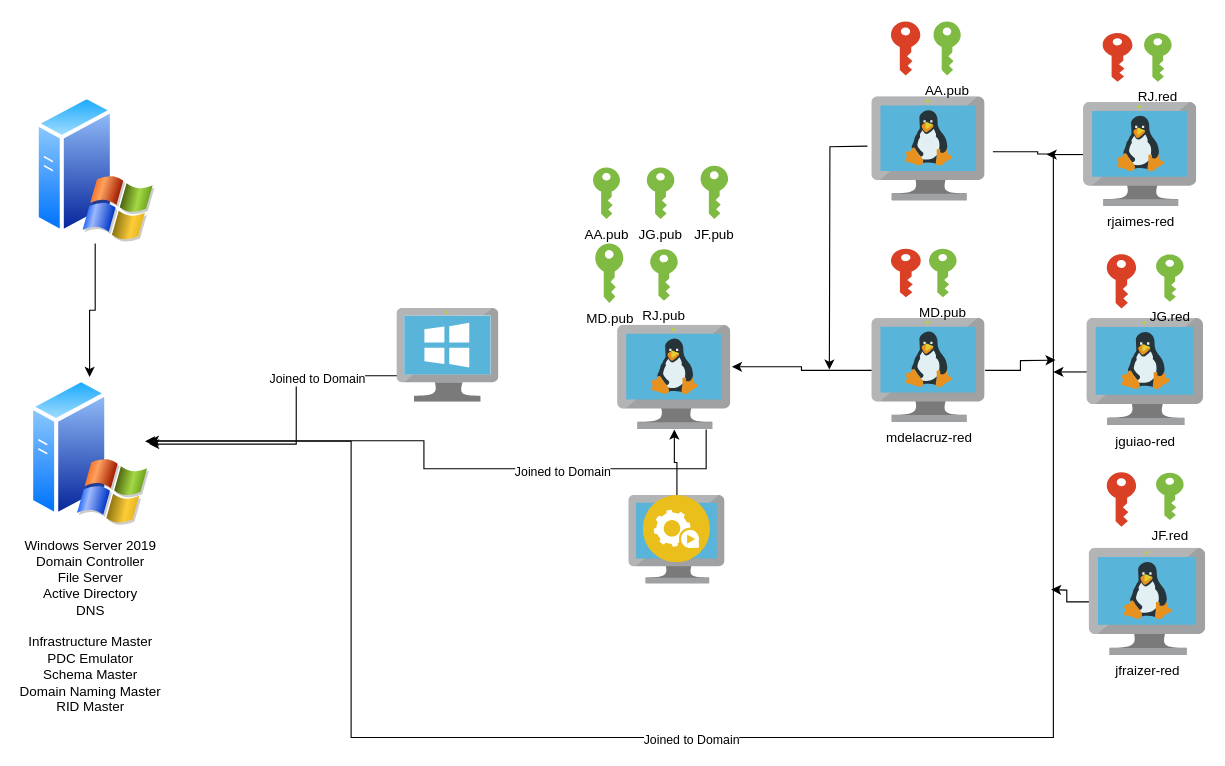
Image size: 1225x766. Some labels were removed from this diagram. Here are the shapes that lost their labels. From the top down, the box of each, then its label:
(35, 93, 155, 243): Windows Server 2012 Domain Controller File Server Active Directory DNS
(871, 96, 985, 200): aacevedo-red
(396, 308, 498, 402): Windows 10 Client
(617, 325, 730, 429): SSH Key Server
(628, 495, 725, 584): Ansible Server
